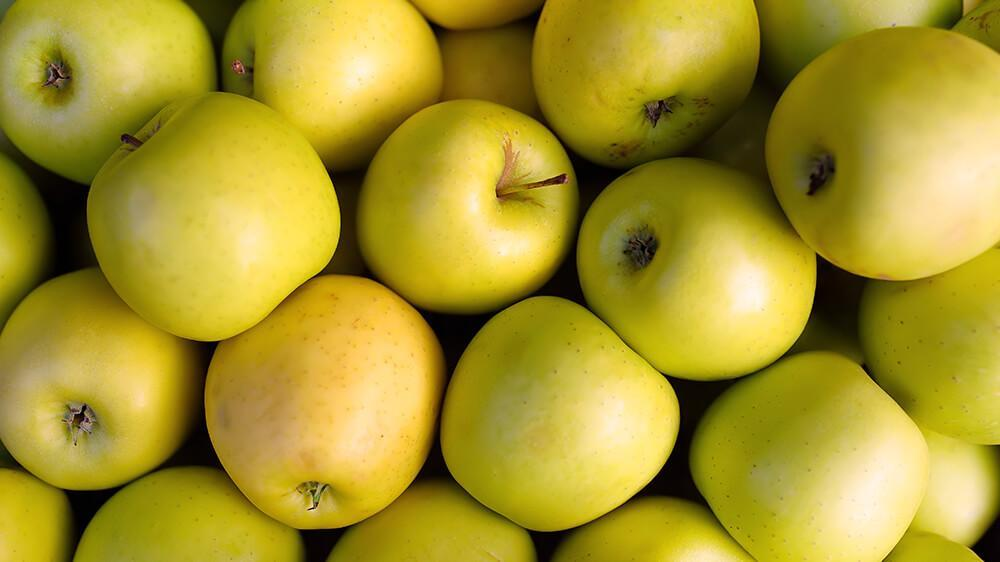apple: (81, 91, 346, 337), (202, 269, 444, 529), (432, 276, 679, 523), (764, 22, 999, 279), (579, 158, 819, 379), (690, 345, 931, 556), (354, 97, 578, 313), (1, 250, 201, 480), (1, 1, 215, 190), (530, 1, 763, 171), (225, 1, 440, 161), (856, 250, 998, 447)
